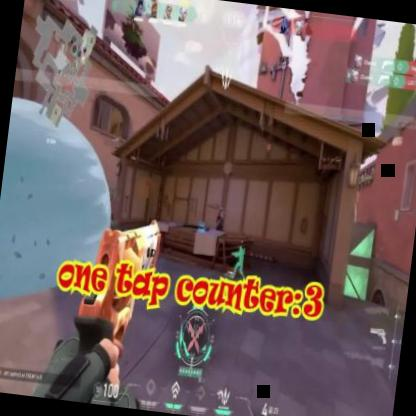enemy: (212, 206, 224, 245)
enemy_head: (218, 206, 222, 214)
